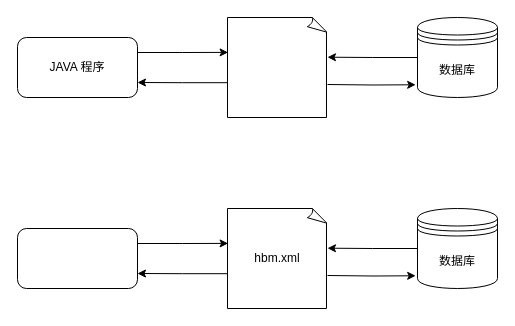
The diagram is 515 pixels wide and 326 high, and some of its shapes have lost their labels. The centre of each missing label's shape, as x and y in pixels:
Hibernate 程序: point (77, 258)
映射配置文件: point (277, 67)
